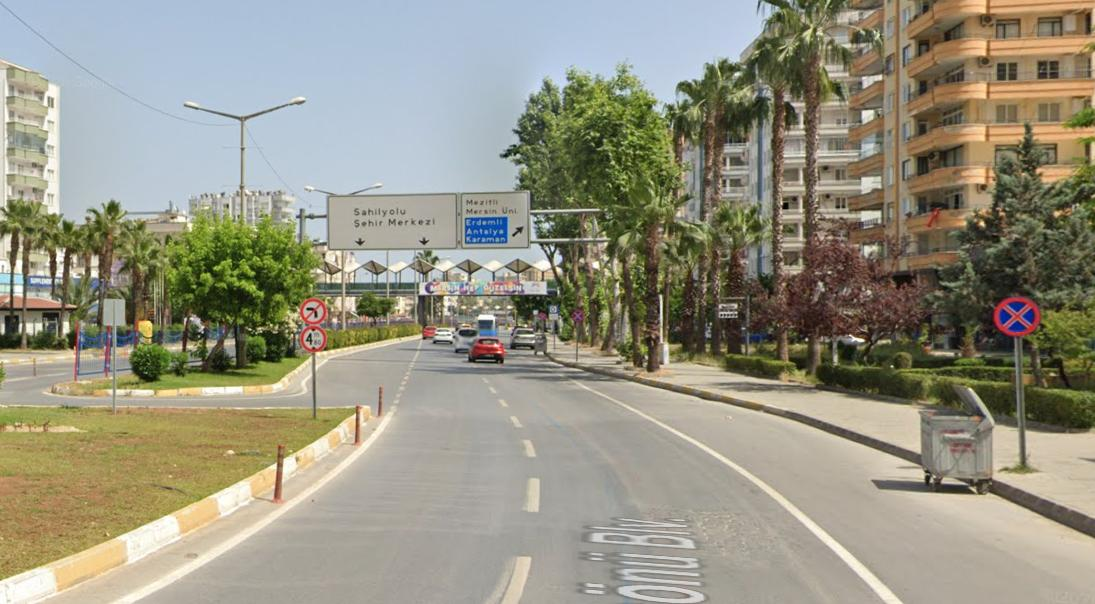leftturnsareforbidden: (299, 300, 325, 325)
